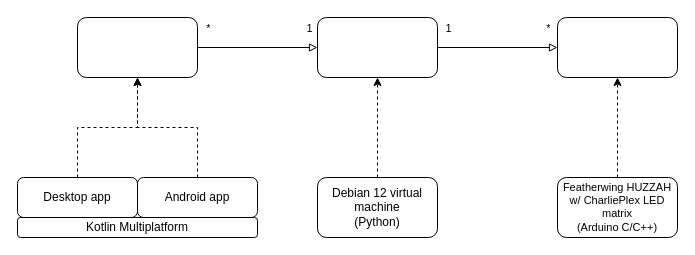
Image size: 695x255. Some labels were removed from this diagram. The centre of each missing label's shape, as x and y in pixels:
"Client" belongs at point 137,47.
"Node" belongs at point 617,47.
"Server" belongs at point 377,47.
